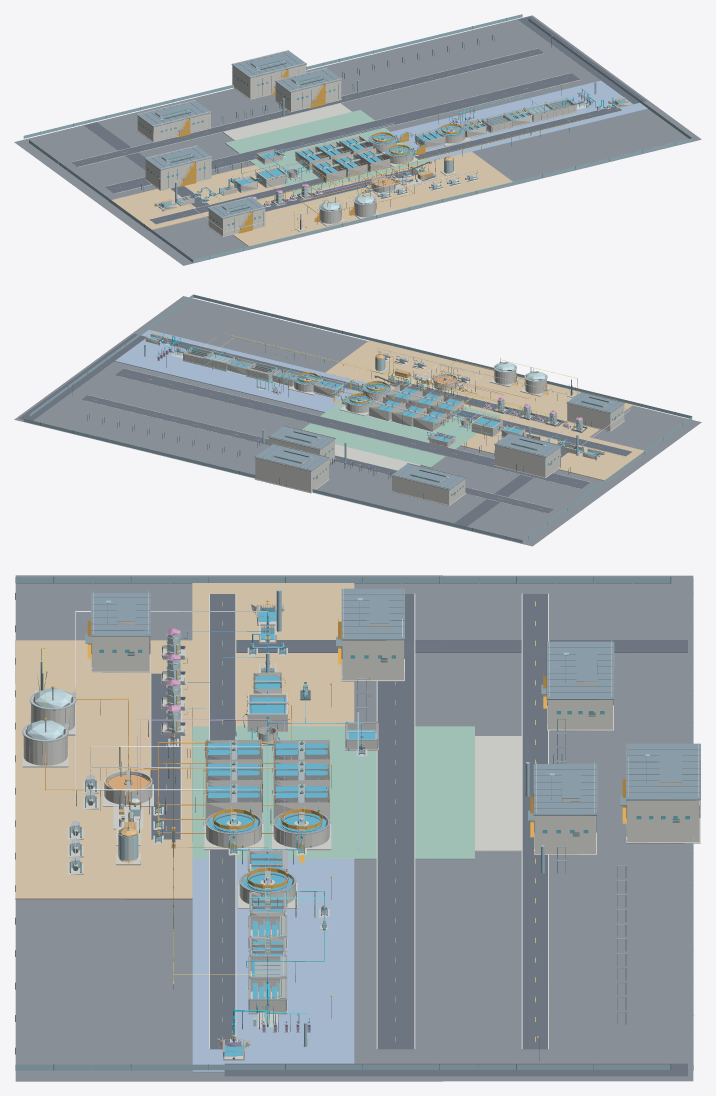
3 renders of one model, top to bottom at view 1: azimuth 30°, elevation 25°; view 2: azimuth 150°, elevation 25°; view 3: azimuth 270°, elevation 25°, orthographic. The views are drawn at different scales.
Parts seen in each view (by area): view 1: render-batch-14, render-batch-10, render-batch-30, render-batch-28, render-batch-34, render-batch-17, render-batch-20, render-batch-16, render-batch-18, render-batch-7, render-batch-37, render-batch-19 (+9 smaller); view 2: render-batch-14, render-batch-10, render-batch-30, render-batch-34, render-batch-28, render-batch-20, render-batch-17, render-batch-16, render-batch-18, render-batch-7, render-batch-19, render-batch-21 (+8 smaller); view 3: render-batch-14, render-batch-10, render-batch-30, render-batch-28, render-batch-20, render-batch-16, render-batch-18, render-batch-34, render-batch-17, render-batch-7, render-batch-19, render-batch-21 (+7 smaller).
Boxes of the visible parts, x1=… form: render-batch-14: x1=14, y1=15, x2=701, y2=265; render-batch-10: x1=71, y1=16, x2=645, y2=223; render-batch-30: x1=108, y1=151, x2=515, y2=248; render-batch-28: x1=137, y1=68, x2=630, y2=237; render-batch-34: x1=71, y1=48, x2=622, y2=236; render-batch-17: x1=23, y1=14, x2=692, y2=262; render-batch-20: x1=391, y1=80, x2=647, y2=161; render-batch-16: x1=136, y1=51, x2=342, y2=227; render-batch-18: x1=225, y1=110, x2=429, y2=194; render-batch-7: x1=159, y1=100, x2=626, y2=208; render-batch-37: x1=158, y1=35, x2=628, y2=233; render-batch-19: x1=159, y1=97, x2=630, y2=206; render-batch-14: x1=14, y1=296, x2=701, y2=546; render-batch-10: x1=19, y1=334, x2=631, y2=526; render-batch-30: x1=325, y1=340, x2=647, y2=481; render-batch-34: x1=81, y1=338, x2=632, y2=513; render-batch-28: x1=145, y1=334, x2=624, y2=505; render-batch-20: x1=114, y1=330, x2=365, y2=412; render-batch-17: x1=23, y1=294, x2=692, y2=543; render-batch-16: x1=254, y1=392, x2=624, y2=490; render-batch-18: x1=302, y1=382, x2=500, y2=467; render-batch-7: x1=150, y1=336, x2=599, y2=456; render-batch-19: x1=146, y1=333, x2=600, y2=455; render-batch-21: x1=157, y1=336, x2=598, y2=456; render-batch-14: x1=15, y1=575, x2=693, y2=1081; render-batch-10: x1=151, y1=594, x2=687, y2=1076; render-batch-30: x1=15, y1=583, x2=354, y2=899; render-batch-28: x1=22, y1=604, x2=700, y2=1060; render-batch-20: x1=192, y1=858, x2=354, y2=1072; render-batch-16: x1=85, y1=588, x2=700, y2=820; render-batch-18: x1=192, y1=726, x2=474, y2=859; render-batch-34: x1=92, y1=587, x2=699, y2=1049; render-batch-17: x1=15, y1=577, x2=693, y2=1070; render-batch-7: x1=208, y1=610, x2=375, y2=1056; render-batch-19: x1=124, y1=605, x2=378, y2=1052; render-batch-21: x1=22, y1=602, x2=377, y2=1046.
Size of the model in its own units: 318 by 14.62 by 182.
